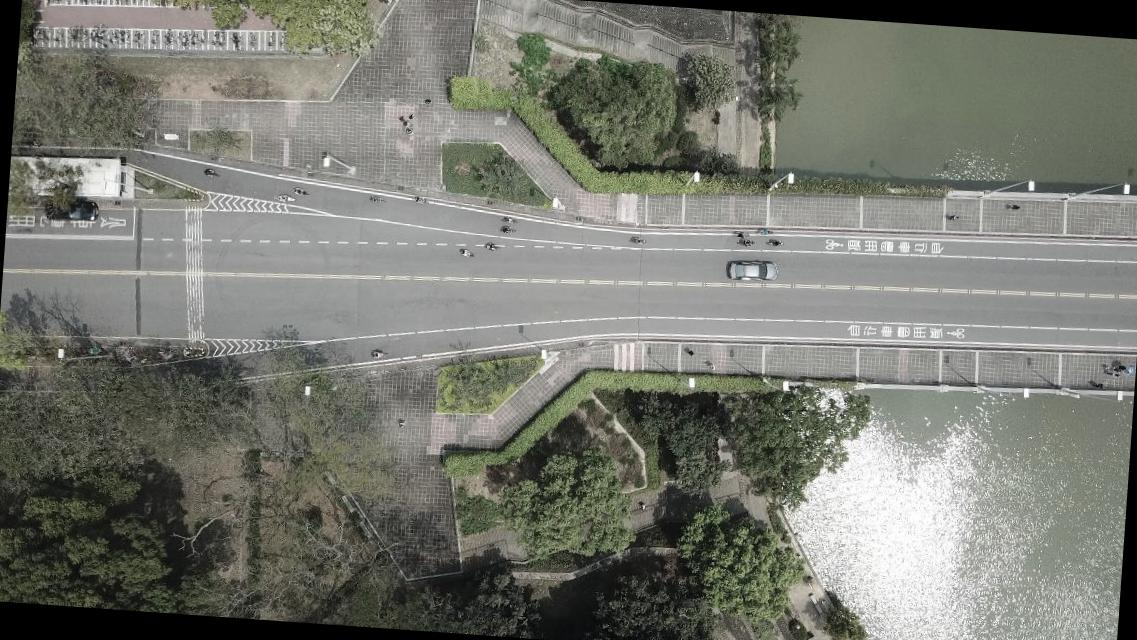vehicle: (42, 197, 99, 224), (726, 258, 778, 284)
